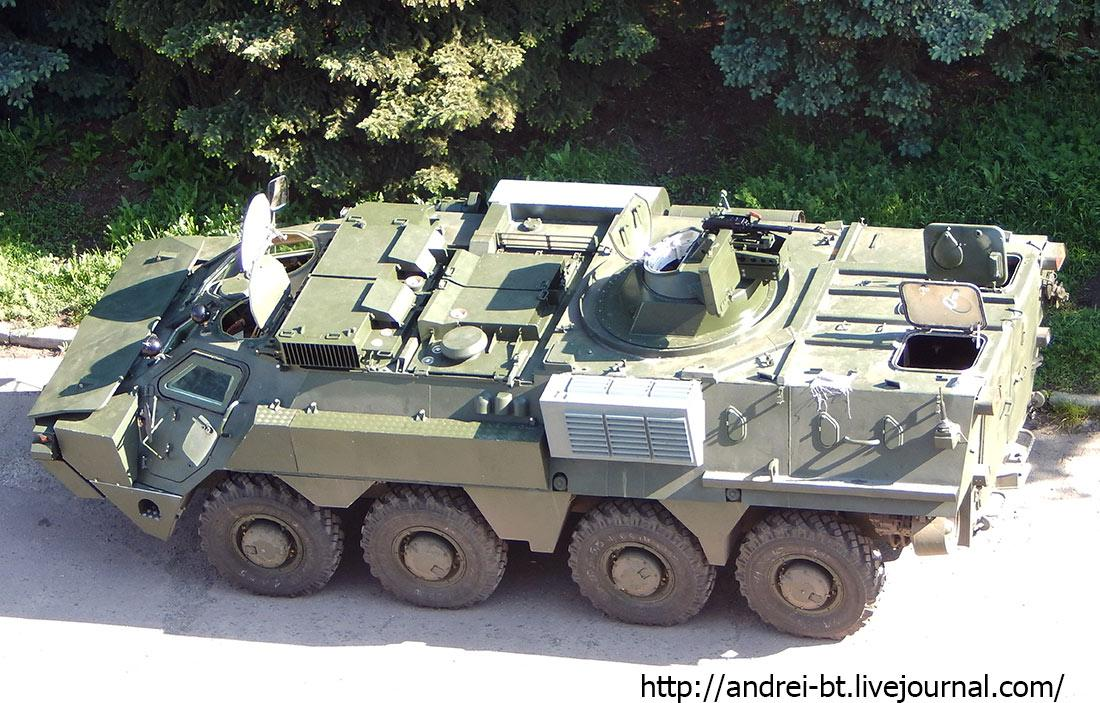armored_car: (7, 171, 1094, 646)
